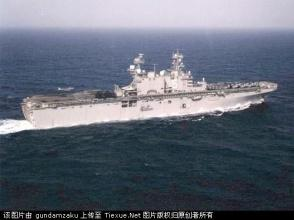warship: (17, 48, 282, 129)
